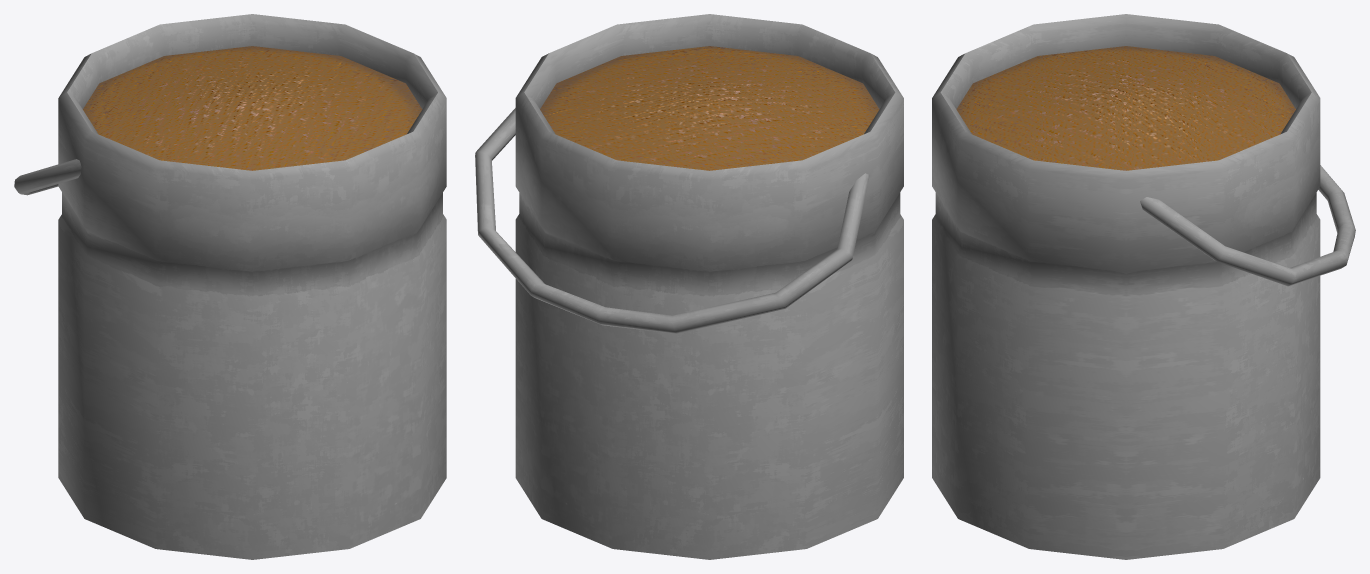
The model's file is Bucket.FBX.
3 renders of one model, left to right at view 1: azimuth 30°, elevation 25°; view 2: azimuth 150°, elevation 25°; view 3: azimuth 270°, elevation 25°, orthographic.
Visible parts, largest first — view 1: Bucket; view 2: Bucket; view 3: Bucket.
Part boxes in pixels (x1,y1,x2,y2): Bucket: (14,14,446,559); Bucket: (475,14,903,559); Bucket: (932,14,1355,559).
Bounding box in the file's own units: 11.98 × 11.67 × 11.63.
